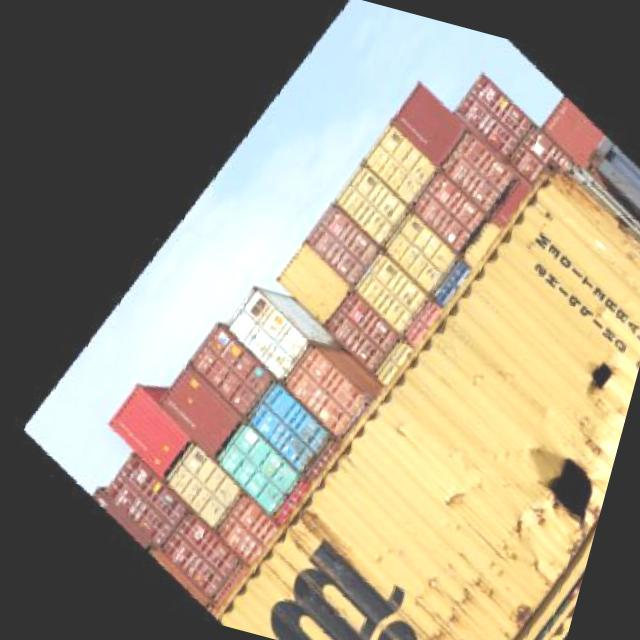hole: (506, 424, 617, 552), (578, 346, 631, 410)
rust: (395, 520, 516, 640)
